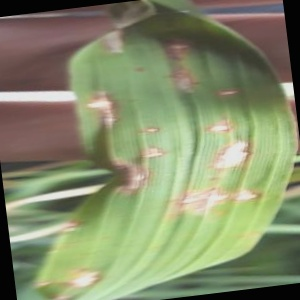Brown_Spot: (99, 154, 168, 203), (163, 181, 232, 224), (150, 61, 201, 110), (40, 260, 101, 300), (210, 133, 260, 178), (85, 83, 121, 133), (231, 170, 274, 209), (46, 209, 93, 243), (140, 139, 181, 172), (130, 110, 173, 141), (201, 113, 248, 138), (155, 33, 188, 68), (219, 76, 253, 106)
